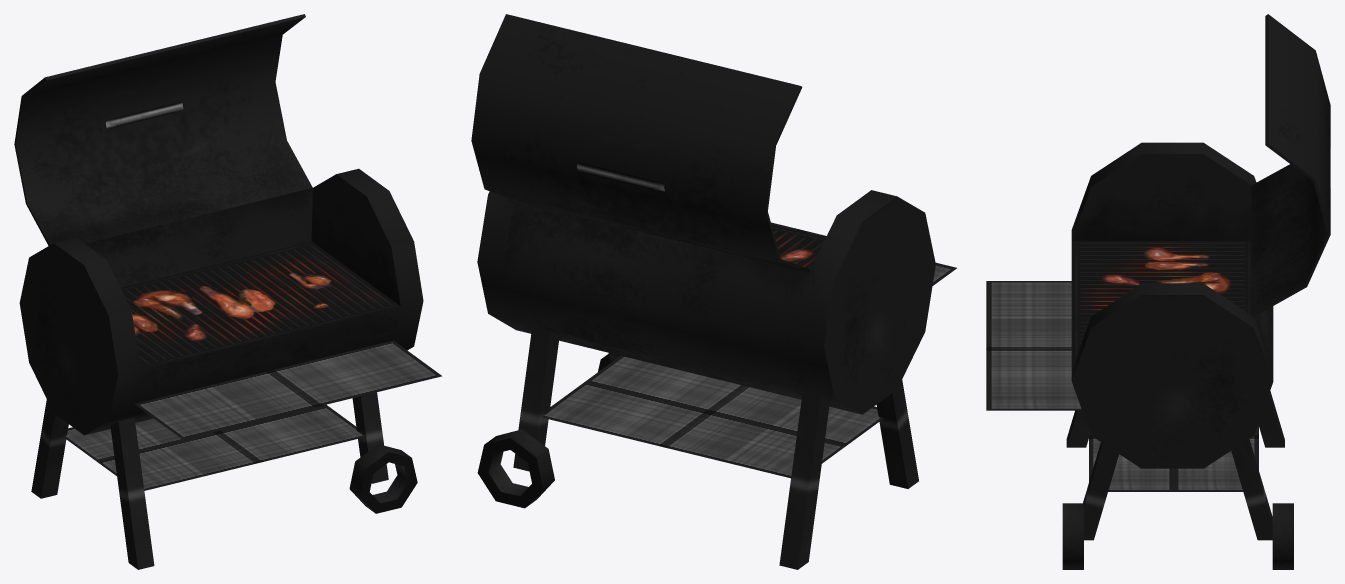
File: BBQ-Pit.FBX
3 renders of one model, left to right at view 1: azimuth 30°, elevation 25°; view 2: azimuth 150°, elevation 25°; view 3: azimuth 270°, elevation 25°, orthographic. The views are drawn at different scales.
Visible parts, largest first — view 1: BBQ Pit; view 2: BBQ Pit; view 3: BBQ Pit.
Boxes of the visible parts, <box> form: BBQ Pit: <box>14,14,441,569</box>; BBQ Pit: <box>471,14,956,569</box>; BBQ Pit: <box>986,14,1330,569</box>.
Bounding box in the file's own units: 123 × 161 × 117.
